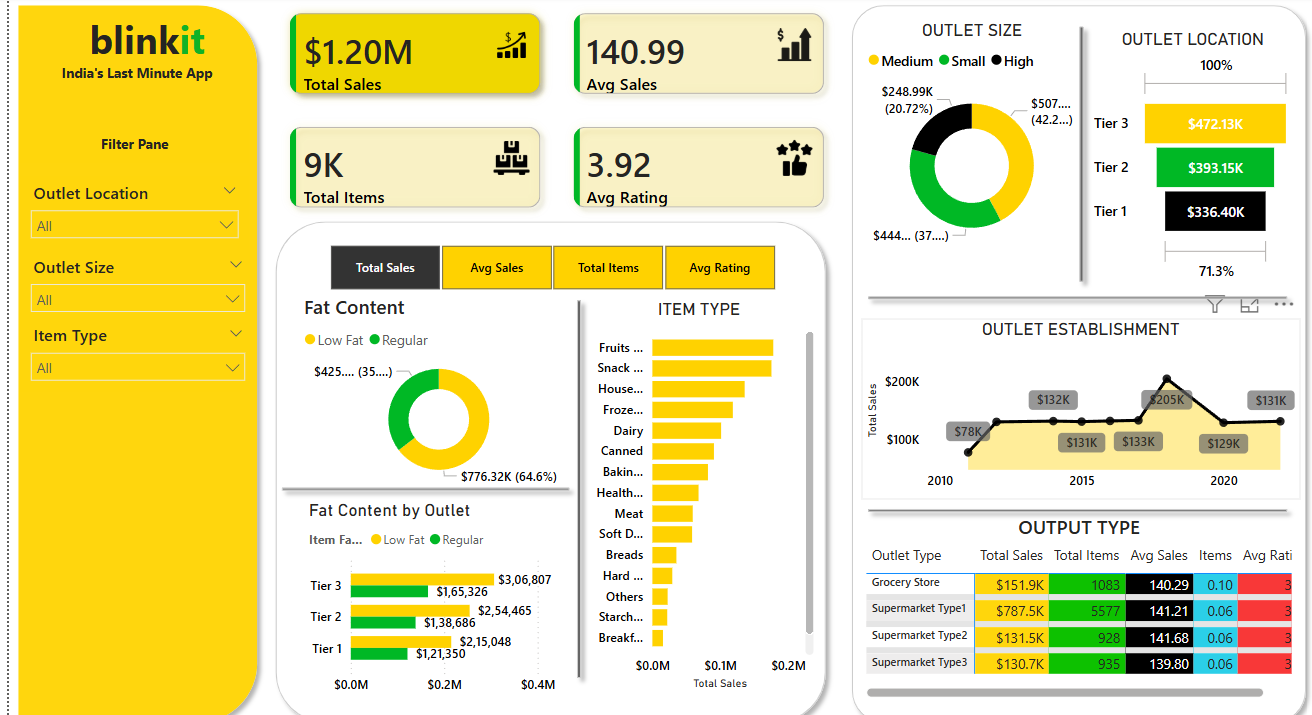

The page's visual inventory and layout, read from the dashboard file:
{"tool":"powerbi","page":{"name":"Page 1","canvas":[1280,720],"ordinal":0},"visuals":[{"type":"shape","box":[0,0,251.9,720.2],"z":0},{"type":"textbox","box":[67.2,12.3,135.8,68.6],"z":1000},{"type":"textbox","box":[46.5,61.1,188.3,51.4],"z":2000},{"type":"cardVisual","fields":{"Data":["BlinkIT Grocery Data.Total Sales","BlinkIT Grocery Data.Avg Sales","BlinkIT Grocery Data.Total Items","BlinkIT Grocery Data.Avg Rating"]},"box":[258,0,556.4,225],"z":3000},{"type":"shape","box":[251.9,211.6,556.4,508.7],"z":4000},{"type":"slicer","fields":{"Values":["Parameter.Parameter"]},"box":[288.2,237.4,484.4,56.3],"z":5000},{"type":"donutChart","title":" Fat Content","fields":{"Y":["BlinkIT Grocery Data.Total Sales"],"Category":["BlinkIT Grocery Data.Item Fat Content"]},"box":[283.7,291,273.9,192],"z":6000},{"type":"clusteredBarChart","title":"Fat Content by Outlet","fields":{"Y":["BlinkIT Grocery Data.Total Sales"],"Category":["BlinkIT Grocery Data.Outlet Location Type"],"Series":["BlinkIT Grocery Data.Item Fat Content"]},"box":[288.6,492.8,265.4,199.3],"z":7000},{"type":"barChart","title":"ITEM TYPE","fields":{"Y":["BlinkIT Grocery Data.Total Sales"],"Category":["BlinkIT Grocery Data.Item Type"]},"box":[557.6,295.9,234.8,387.6],"z":8000},{"type":"shape","box":[815.6,0,462.2,720.2],"z":9000},{"type":"donutChart","title":"OUTLET SIZE","fields":{"Category":["BlinkIT Grocery Data.Outlet Size"],"Y":["BlinkIT Grocery Data.Total Sales"]},"box":[835.2,23.2,214,237.2],"z":10000},{"type":"funnel","title":"OUTLET LOCATION","fields":{"Category":["BlinkIT Grocery Data.Outlet Location Type"],"Y":["BlinkIT Grocery Data.Total Sales"]},"box":[1056.5,31.8,203,253.1],"z":11000},{"type":"lineChart","title":"OUTLET ESTABLISHMENT","fields":{"Category":["BlinkIT Grocery Data.Outlet Establishment Year"],"Y":["BlinkIT Grocery Data.Total Sales"]},"box":[834,315.5,429.2,177.3],"z":12000},{"type":"pivotTable","title":"OUTPUT TYPE","fields":{"Rows":["BlinkIT Grocery Data.Outlet Type"],"Values":["BlinkIT Grocery Data.Total Sales","BlinkIT Grocery Data.Total Items","BlinkIT Grocery Data.Avg Sales","Avg(BlinkIT Grocery Data.Item Visibility)","BlinkIT Grocery Data.Avg Rating"]},"box":[834,506.3,425.5,184.6],"z":13000},{"type":"slicer","fields":{"Values":["BlinkIT Grocery Data.Outlet Location Type"]},"box":[11,176.1,223.8,72.1],"z":14000},{"type":"slicer","fields":{"Values":["BlinkIT Grocery Data.Outlet Size"]},"box":[11,248.2,229.9,72.1],"z":15000},{"type":"slicer","fields":{"Values":["BlinkIT Grocery Data.Item Type"]},"box":[11,315.5,229.9,72.1],"z":16000},{"type":"textbox","box":[11,130.8,223.8,33],"z":17000},{"type":"shape","box":[546.6,288.6,22,387.6],"z":18000},{"type":"shape","box":[1038.2,20.8,22,267.8],"z":19000},{"type":"shape","box":[831.5,284.9,428,20.8],"z":20000},{"type":"shape","box":[258,472,299.6,20.8],"z":21000},{"type":"shape","box":[831.5,492.8,428,20.8],"z":22000}]}

Visuals, with their boxes on the page's 1280x720 design canvas (x1, y1, x2, y2). These are canvas units, not pixel positions in the 1312x715 screenshot, which may show the page scaled, cropped or inside an application window:
shape: left=0, top=0, right=252, bottom=720
textbox: left=67, top=12, right=203, bottom=81
textbox: left=46, top=61, right=235, bottom=112
cardVisual - BlinkIT Grocery Data.Total Sales x BlinkIT Grocery Data.Avg Sales: left=258, top=0, right=814, bottom=225
shape: left=252, top=212, right=808, bottom=720
slicer - Parameter.Parameter: left=288, top=237, right=773, bottom=294
" Fat Content" donutChart: left=284, top=291, right=558, bottom=483
"Fat Content by Outlet" clusteredBarChart: left=289, top=493, right=554, bottom=692
"ITEM TYPE" barChart: left=558, top=296, right=792, bottom=684
shape: left=816, top=0, right=1278, bottom=720
"OUTLET SIZE" donutChart: left=835, top=23, right=1049, bottom=260
"OUTLET LOCATION" funnel: left=1056, top=32, right=1260, bottom=285
"OUTLET ESTABLISHMENT" lineChart: left=834, top=316, right=1263, bottom=493
"OUTPUT TYPE" pivotTable: left=834, top=506, right=1260, bottom=691
slicer - BlinkIT Grocery Data.Outlet Location Type: left=11, top=176, right=235, bottom=248
slicer - BlinkIT Grocery Data.Outlet Size: left=11, top=248, right=241, bottom=320
slicer - BlinkIT Grocery Data.Item Type: left=11, top=316, right=241, bottom=388
textbox: left=11, top=131, right=235, bottom=164
shape: left=547, top=289, right=569, bottom=676
shape: left=1038, top=21, right=1060, bottom=289
shape: left=832, top=285, right=1260, bottom=306
shape: left=258, top=472, right=558, bottom=493
shape: left=832, top=493, right=1260, bottom=514
